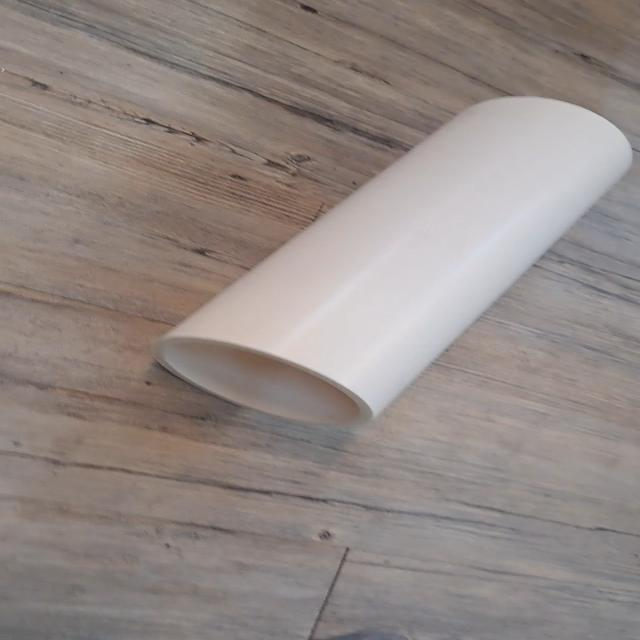CORAL: (119, 79, 640, 448)
